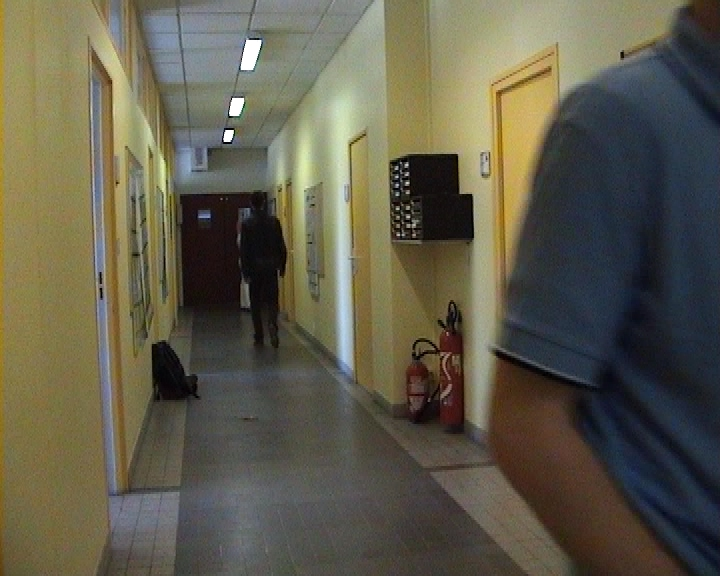leave bag unattended: (127, 321, 234, 444)
